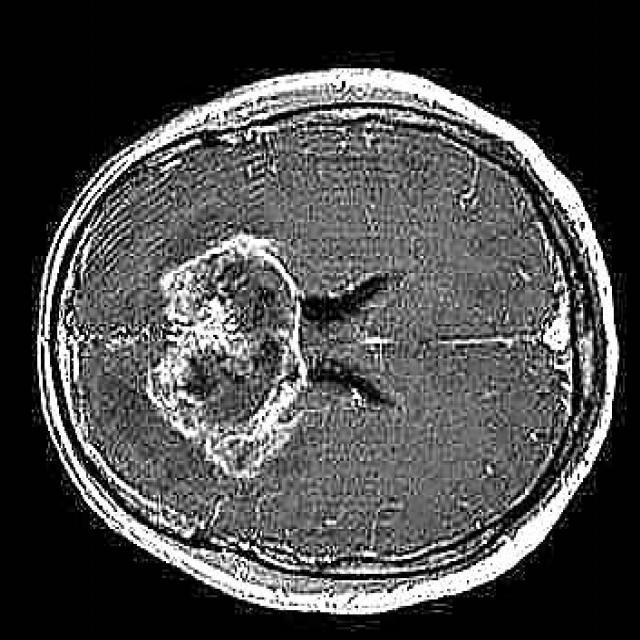tumor: (143, 233, 319, 478)
